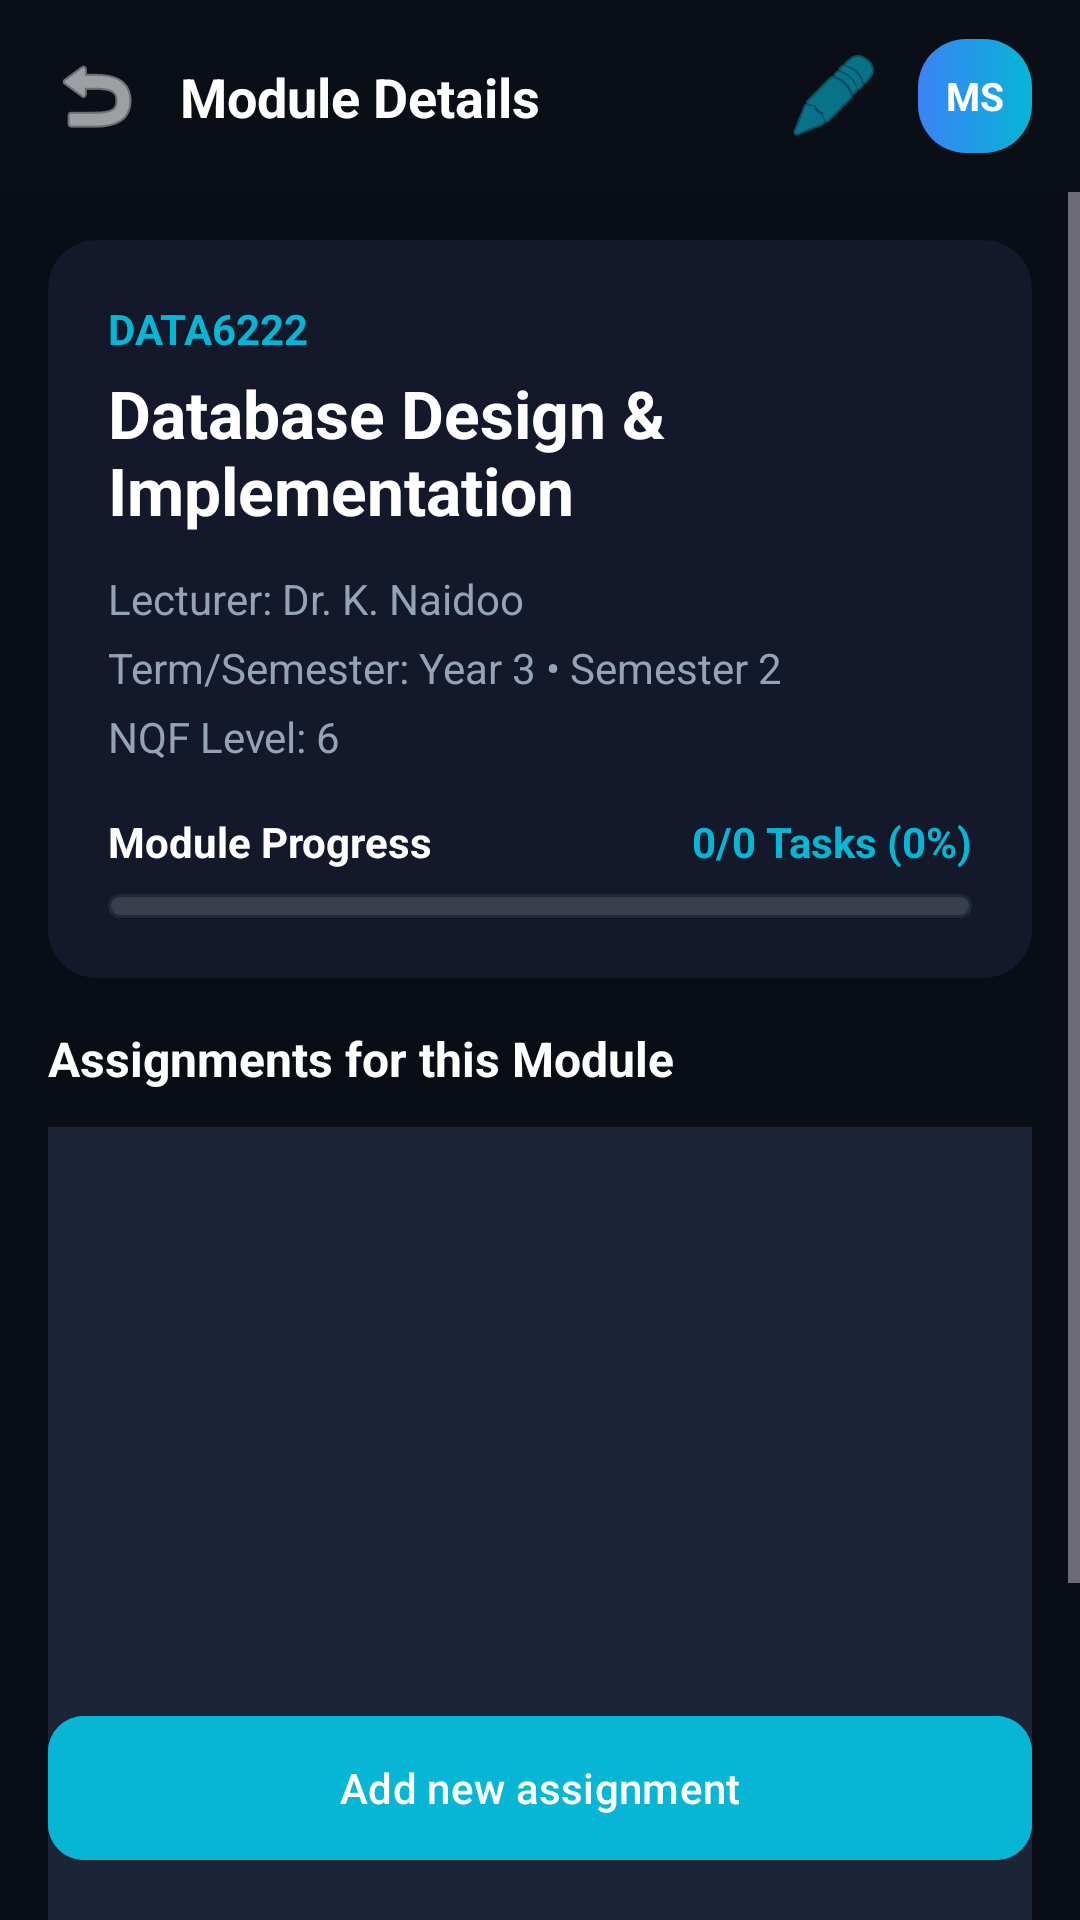

Where icons sit on this 1080×1920 app screen, as BBox(x1, y1, x2, y2):
edit: BBox(793, 55, 874, 136)
revert: BBox(63, 65, 132, 128)
